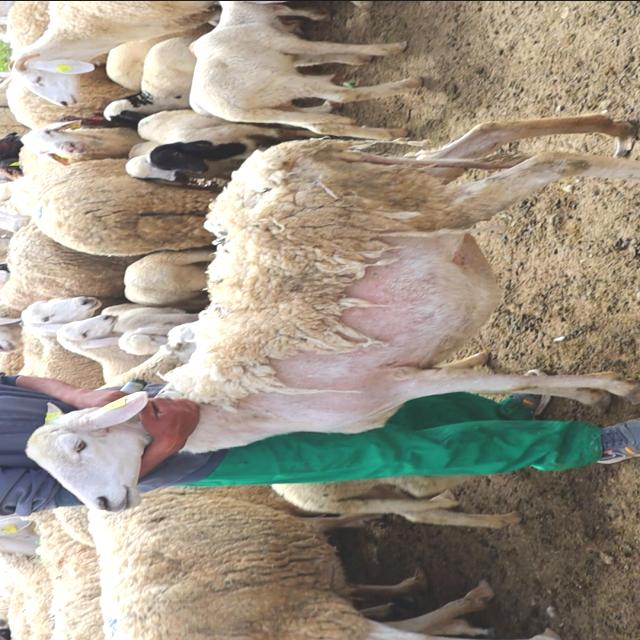Score_2: (26, 113, 639, 511)
